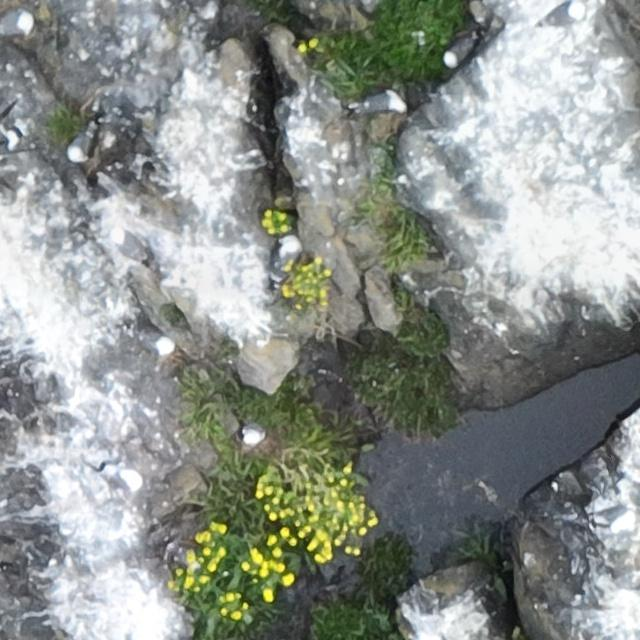umineko: (536, 1, 593, 28), (113, 228, 150, 268), (101, 462, 145, 494), (274, 234, 303, 282), (130, 327, 172, 353), (358, 90, 400, 111), (442, 37, 472, 66), (69, 126, 94, 160), (604, 506, 636, 532), (0, 11, 32, 36), (242, 419, 268, 446)
